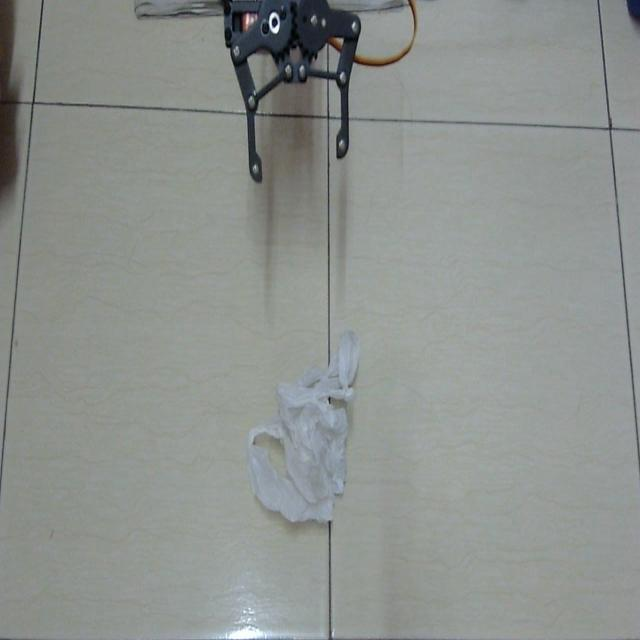plastic_laydown_0rotation: (244, 333, 364, 532)
